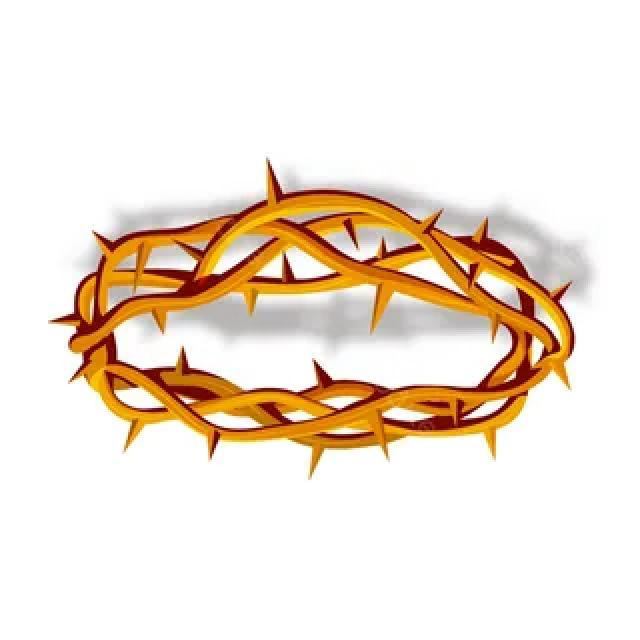crown: (71, 187, 580, 471)
